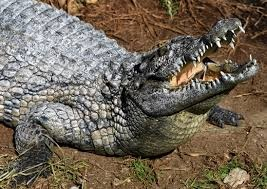crocodile: (1, 0, 261, 186)
